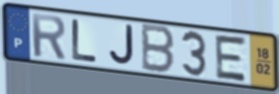3: (180, 29, 208, 79)
B: (140, 21, 176, 76)
E: (214, 33, 249, 84)
J: (107, 23, 136, 68)
L: (70, 17, 100, 64)
R: (29, 11, 68, 61)
